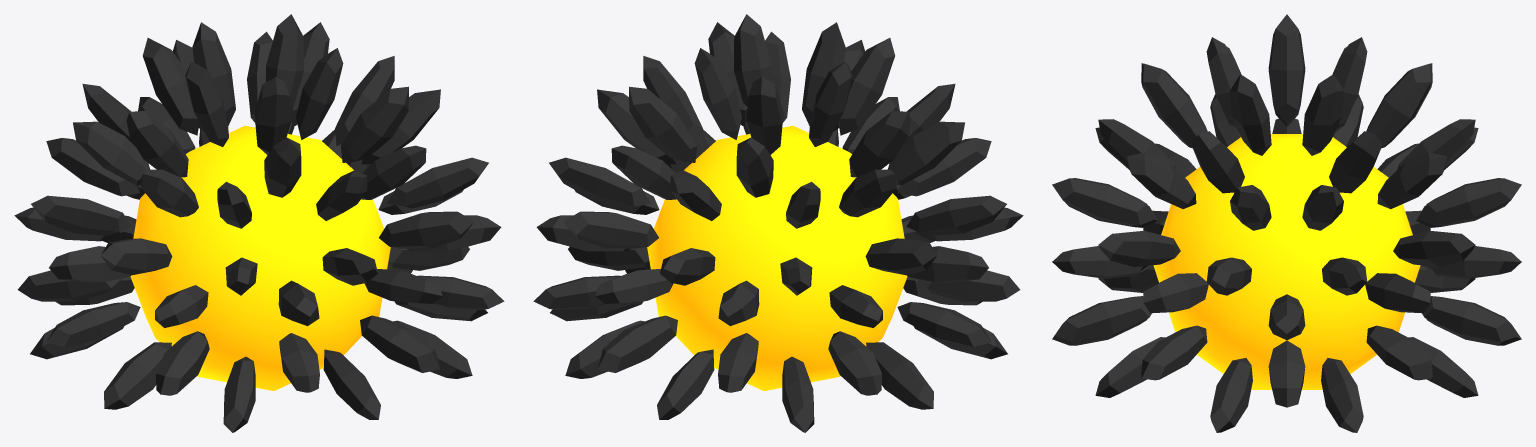
Rendered from BombEnemy.fbx.
3 views of the same model, side by side, from view 1: azimuth 30°, elevation 25°; view 2: azimuth 150°, elevation 25°; view 3: azimuth 270°, elevation 25° (orthographic).
Visible parts, largest first — view 1: Icosphere.002, Icosphere.003; view 2: Icosphere.002, Icosphere.003; view 3: Icosphere.002, Icosphere.003.
Boxes of the visible parts, x1,y1,x2,y2 form: Icosphere.002: [14, 14, 504, 432]; Icosphere.003: [130, 126, 390, 390]; Icosphere.002: [533, 14, 1023, 432]; Icosphere.003: [647, 126, 907, 390]; Icosphere.002: [1052, 14, 1521, 432]; Icosphere.003: [1153, 134, 1420, 389].
Bounding box in the file's own units: 367 × 276 × 349.
